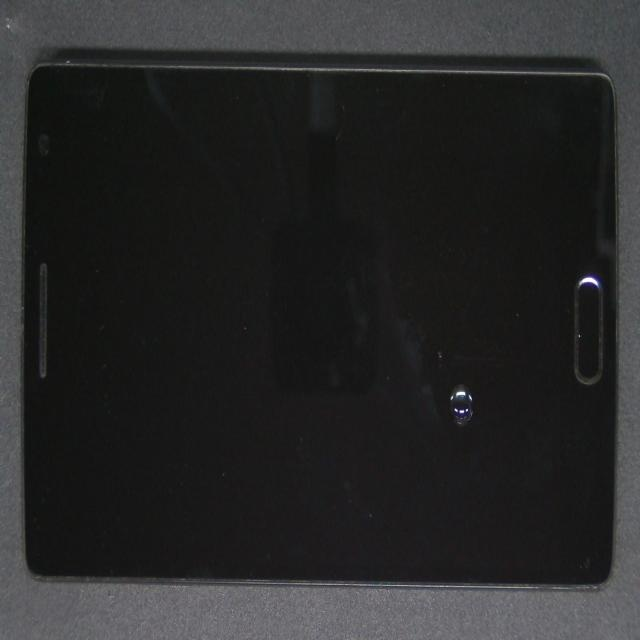oil: (215, 190, 640, 620)
